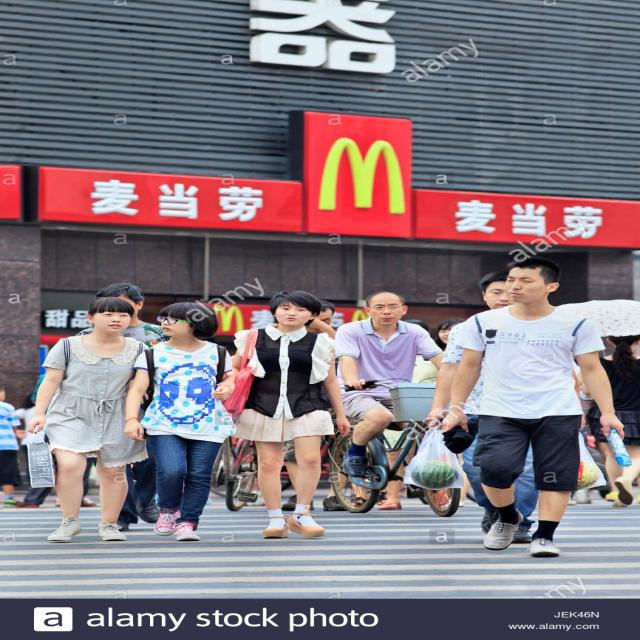body: (435, 256, 636, 560), (208, 288, 353, 541), (22, 294, 158, 544), (427, 267, 541, 546), (118, 300, 242, 544), (75, 282, 172, 533), (331, 290, 446, 500), (364, 316, 468, 516), (279, 298, 354, 514), (11, 386, 97, 512), (584, 333, 640, 510), (559, 359, 613, 511), (0, 383, 27, 507), (435, 317, 467, 351)
